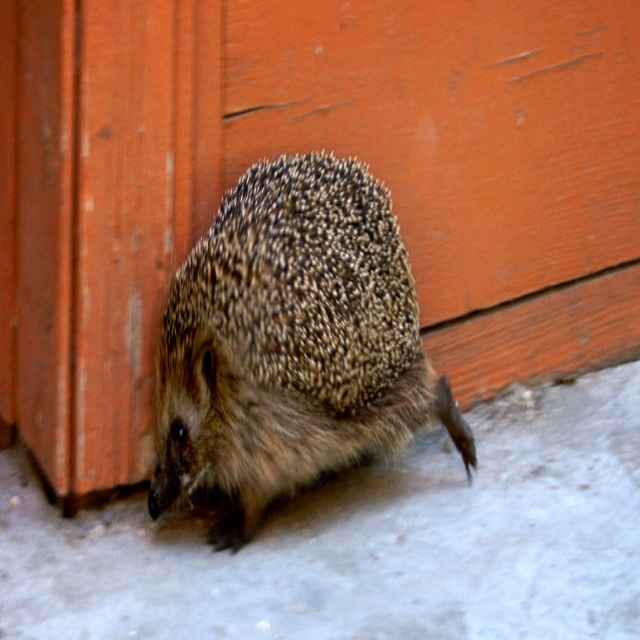Hedgehog: (147, 146, 477, 558)
